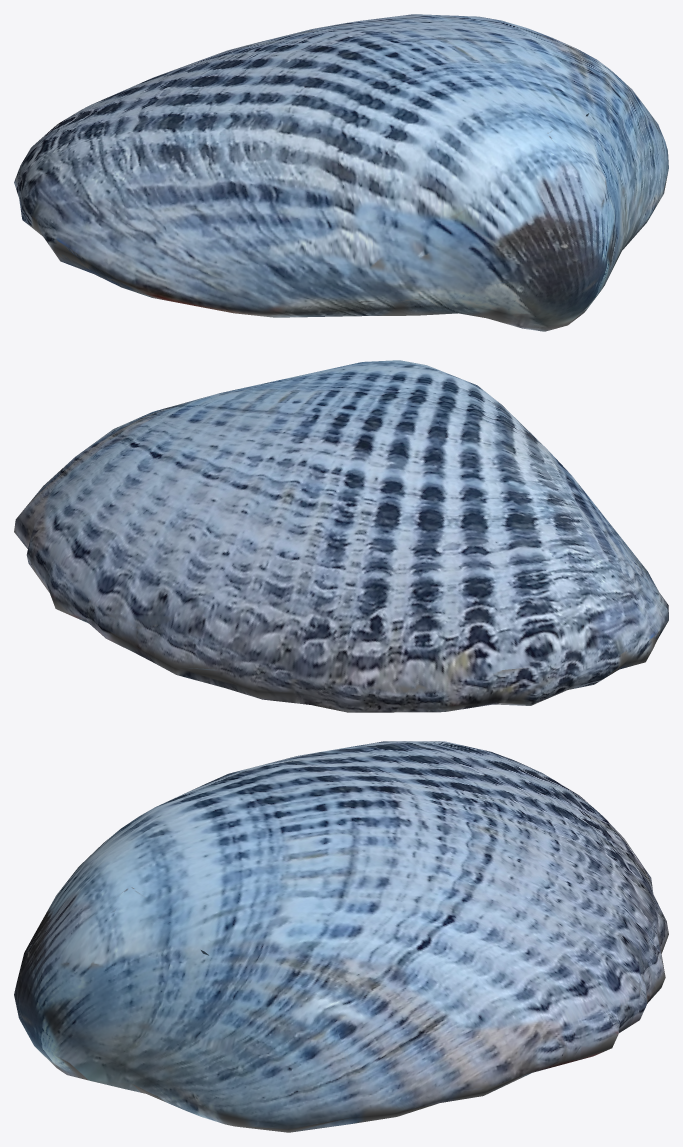
The model's file is Cockle5.fbx.
3 renders of one model, top to bottom at view 1: azimuth 30°, elevation 25°; view 2: azimuth 150°, elevation 25°; view 3: azimuth 270°, elevation 25°, orthographic. The views are drawn at different scales.
Visible parts, largest first — view 1: Cockel5_LOD0; view 2: Cockel5_LOD0; view 3: Cockel5_LOD0.
Boxes of the visible parts, <box> form: Cockel5_LOD0: <box>14,14,668,331</box>; Cockel5_LOD0: <box>14,360,668,712</box>; Cockel5_LOD0: <box>14,741,668,1132</box>.
Size of what is drawn, in the model's own units: 24.58 by 8.14 by 21.04.
